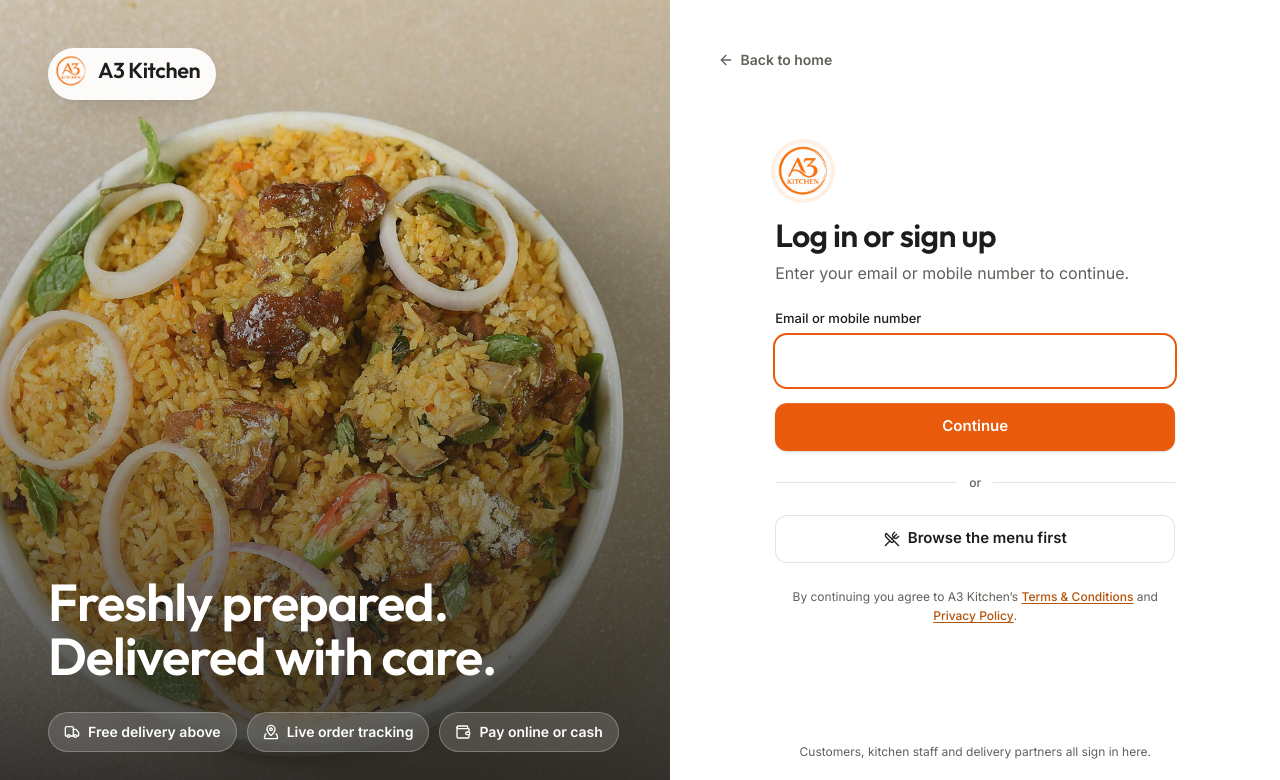
one-field login (web) › unregistered email → register, pre-filled
Type "new@example.com" into the field labelled "Email or mobile number" at [975, 361], box [775,335,1175,387]
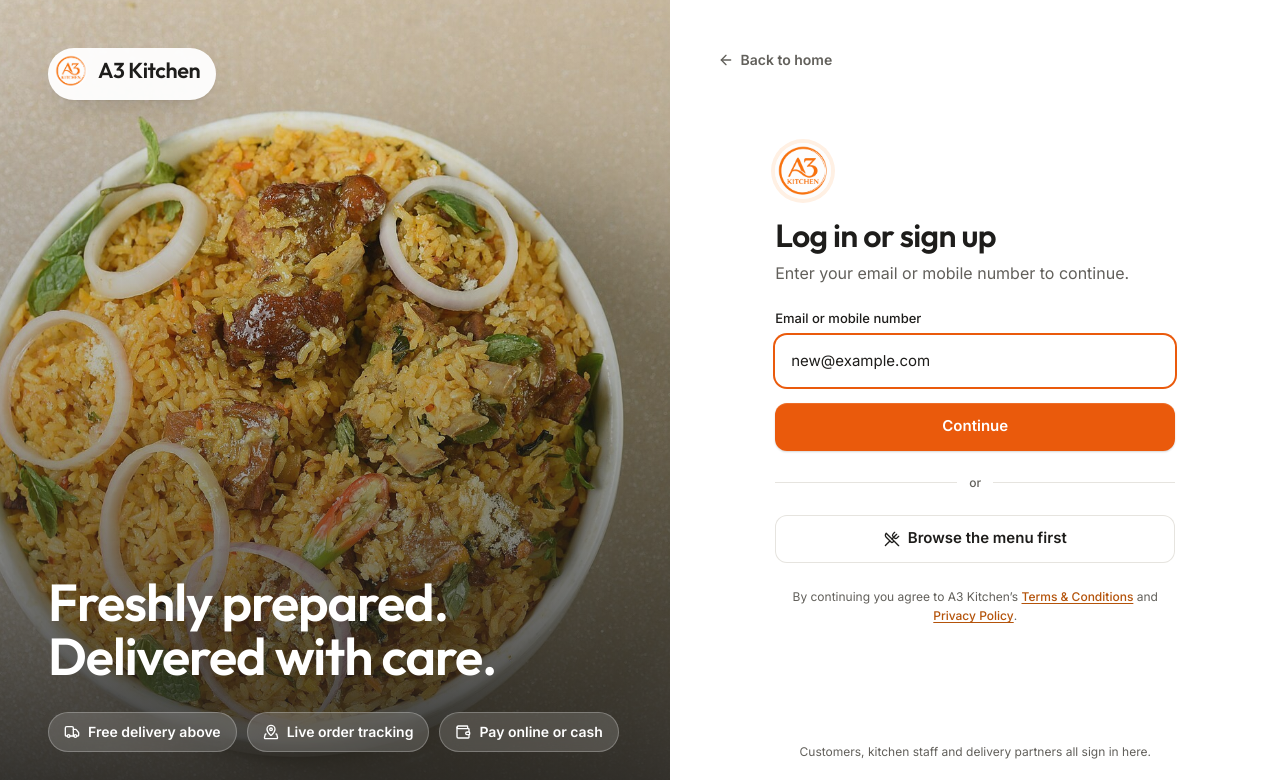
Click the button "Continue" at [975, 427], box [775,403,1175,451]
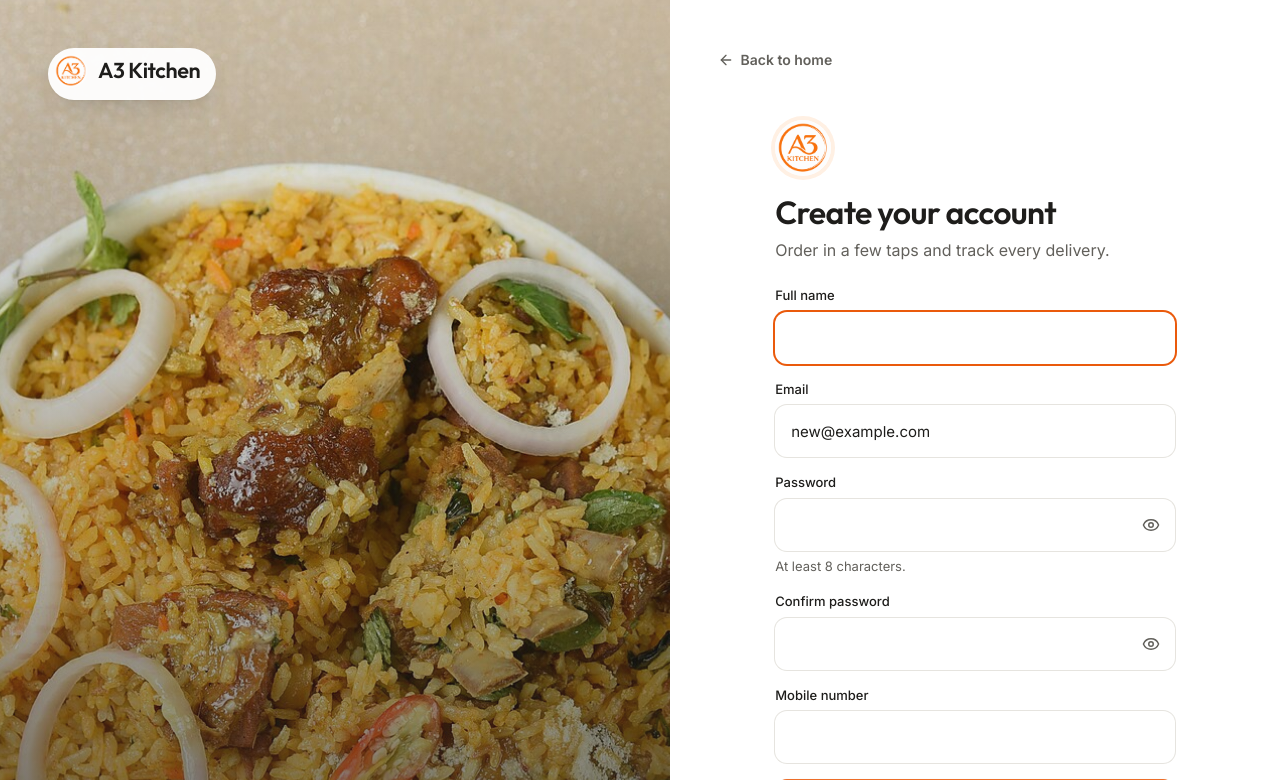
Result: the field labelled "Email" holds "new@example.com" at [775,405,1175,457]
